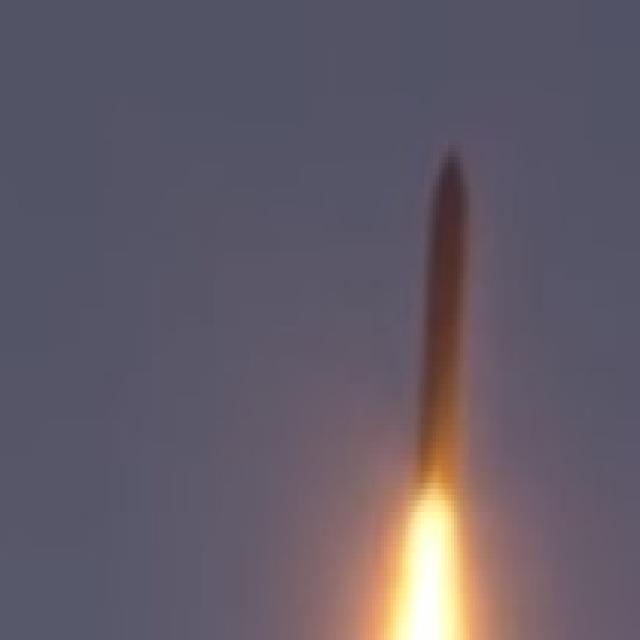missile: (408, 144, 463, 491)
